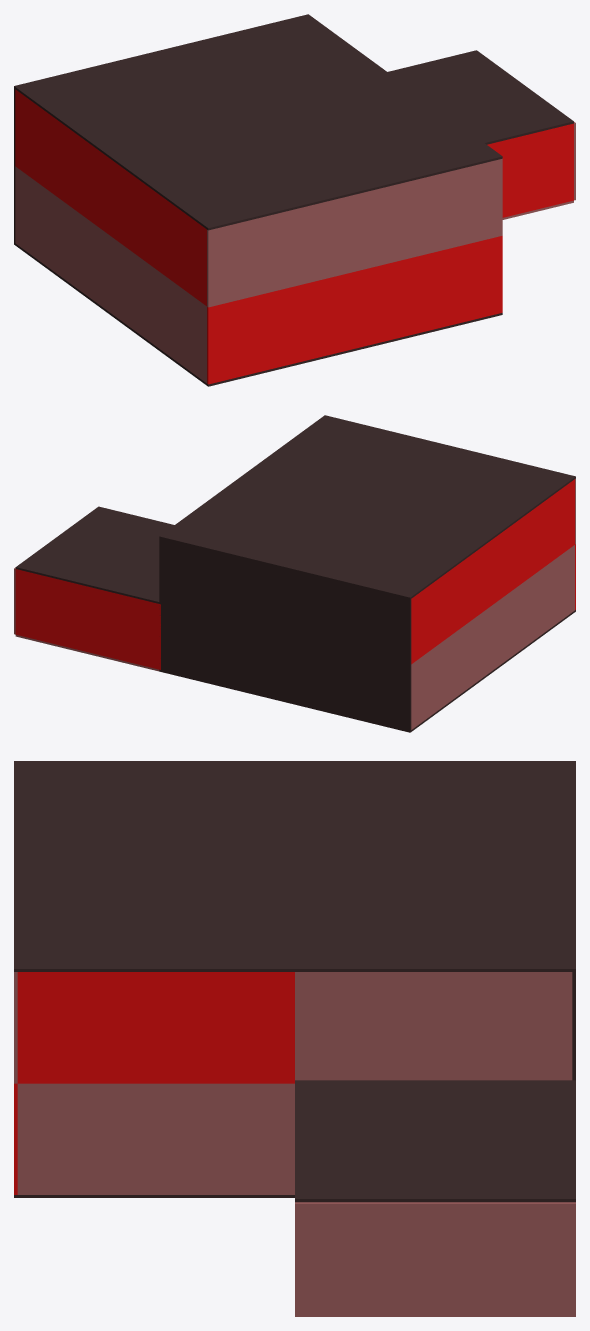
Rendered from deneme 3.fbx.
3 renders of one model, top to bottom at view 1: azimuth 30°, elevation 25°; view 2: azimuth 150°, elevation 25°; view 3: azimuth 270°, elevation 25°, orthographic. The views are drawn at different scales.
Parts seen in each view (by area): view 1: Cube__12_, Cube__17_, Cube__8_, Cube__16_, Cube__9_, Cube__6_, Cube__2_, Cube__6__1; view 2: Cube__12_, Cube__12__1, Cube__10_, Cube__9_, Cube__16_, Cube__4_, Cube__6_, Cube__6__1; view 3: Cube__12_, Cube__6_, Cube__3_, Cube__18_, Cube__7_, Cube__5_, Cube__6__1.
Boxes of the visible parts, x1,y1,x2,y2 form: Cube__12_: (14,14,502,230); Cube__17_: (207,158,502,307); Cube__8_: (207,236,502,384); Cube__16_: (15,89,206,306); Cube__9_: (15,166,206,383); Cube__6_: (388,50,573,144); Cube__2_: (487,123,573,217); Cube__6__1: (14,242,502,386); Cube__12_: (159,415,575,599); Cube__12__1: (159,538,411,664); Cube__10_: (160,604,411,730); Cube__9_: (411,545,574,729); Cube__16_: (411,479,574,664); Cube__4_: (15,569,159,669); Cube__6_: (15,506,174,603); Cube__6__1: (159,610,575,732); Cube__12_: (14,761,575,971); Cube__6_: (295,1080,575,1202); Cube__3_: (295,1202,575,1315); Cube__18_: (17,972,294,1083); Cube__7_: (17,1083,294,1194); Cube__5_: (295,972,572,1080); Cube__6__1: (14,1195,294,1197).
Size of the model in its own units: 2210 by 720 by 1600.
